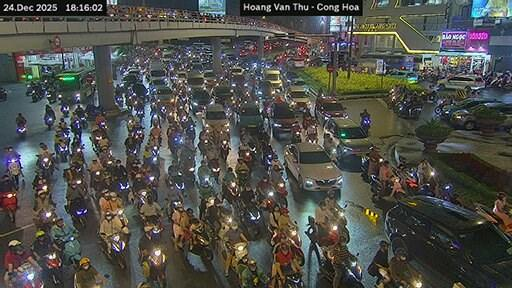motorbike: (474, 202, 511, 234), (99, 234, 125, 269), (7, 261, 41, 287), (189, 225, 213, 260), (56, 233, 80, 268), (338, 253, 361, 287), (284, 226, 304, 265), (147, 247, 166, 287), (240, 202, 259, 238), (330, 207, 348, 242), (42, 251, 60, 284), (0, 190, 16, 221), (6, 158, 21, 188), (36, 208, 56, 230), (230, 243, 246, 270), (70, 199, 86, 226), (393, 103, 422, 117), (165, 198, 182, 221), (179, 155, 194, 180), (223, 180, 239, 203), (169, 131, 182, 157), (38, 158, 53, 179), (275, 181, 287, 207), (320, 256, 332, 280), (134, 189, 149, 208), (172, 171, 184, 194), (89, 171, 101, 193), (118, 176, 130, 198), (262, 148, 274, 169), (284, 273, 303, 286), (434, 98, 450, 113), (220, 139, 230, 161), (208, 157, 217, 181), (150, 144, 159, 165), (359, 117, 370, 134), (306, 125, 316, 143), (70, 118, 80, 136), (57, 143, 67, 161), (268, 229, 278, 246), (237, 171, 249, 185), (44, 115, 54, 129), (16, 122, 25, 136), (185, 126, 194, 140), (60, 103, 69, 117), (291, 130, 300, 143), (115, 93, 122, 106), (79, 115, 86, 127), (320, 247, 327, 253), (166, 183, 167, 184)
